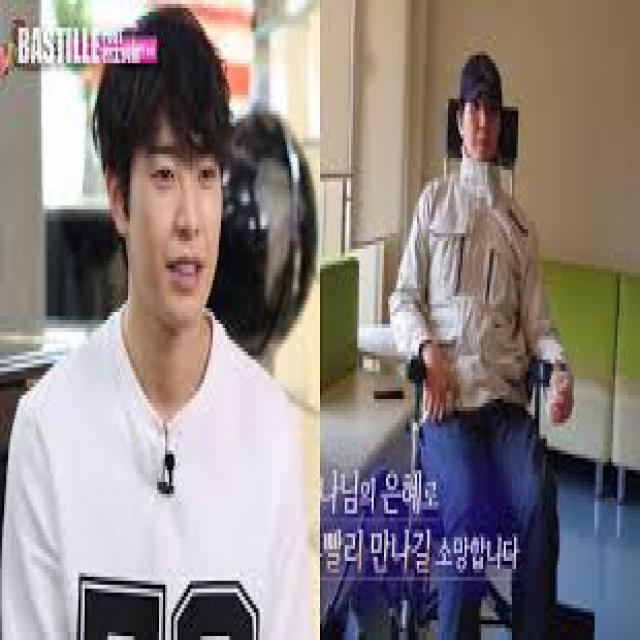wheelchairs: (398, 83, 584, 636)
